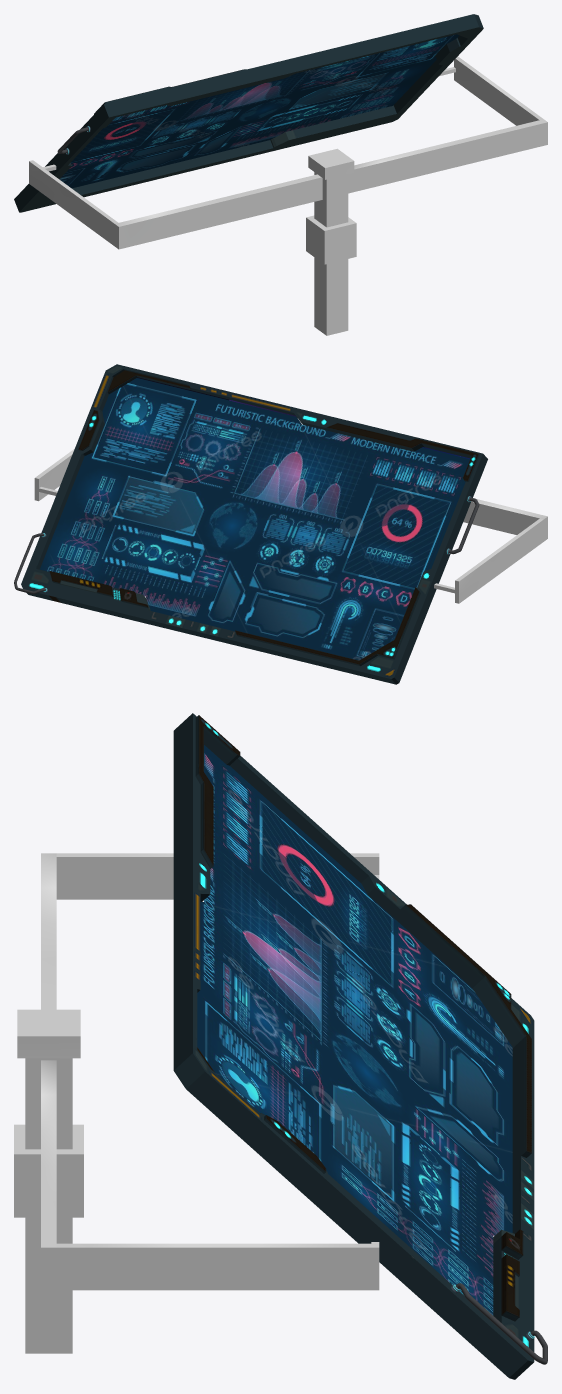
The model's file is main_panel.glb.
3 views of the same model, one above another, from view 1: azimuth 30°, elevation 25°; view 2: azimuth 150°, elevation 25°; view 3: azimuth 270°, elevation 25° (orthographic). The views are drawn at different scales.
Parts seen in each view (by area): view 1: panel_10, holder; view 2: panel_10, holder; view 3: panel_10, holder.
Boxes of the visible parts, x1,y1,x2,y2 form: panel_10: (14, 14, 483, 212); holder: (29, 56, 547, 335); panel_10: (14, 364, 487, 684); holder: (34, 449, 547, 603); panel_10: (173, 713, 547, 1379); holder: (14, 853, 379, 1353).
Size of the model in its own units: 2.56 by 1.38 by 1.46.
Materials: 3 (3 with a texture image).
